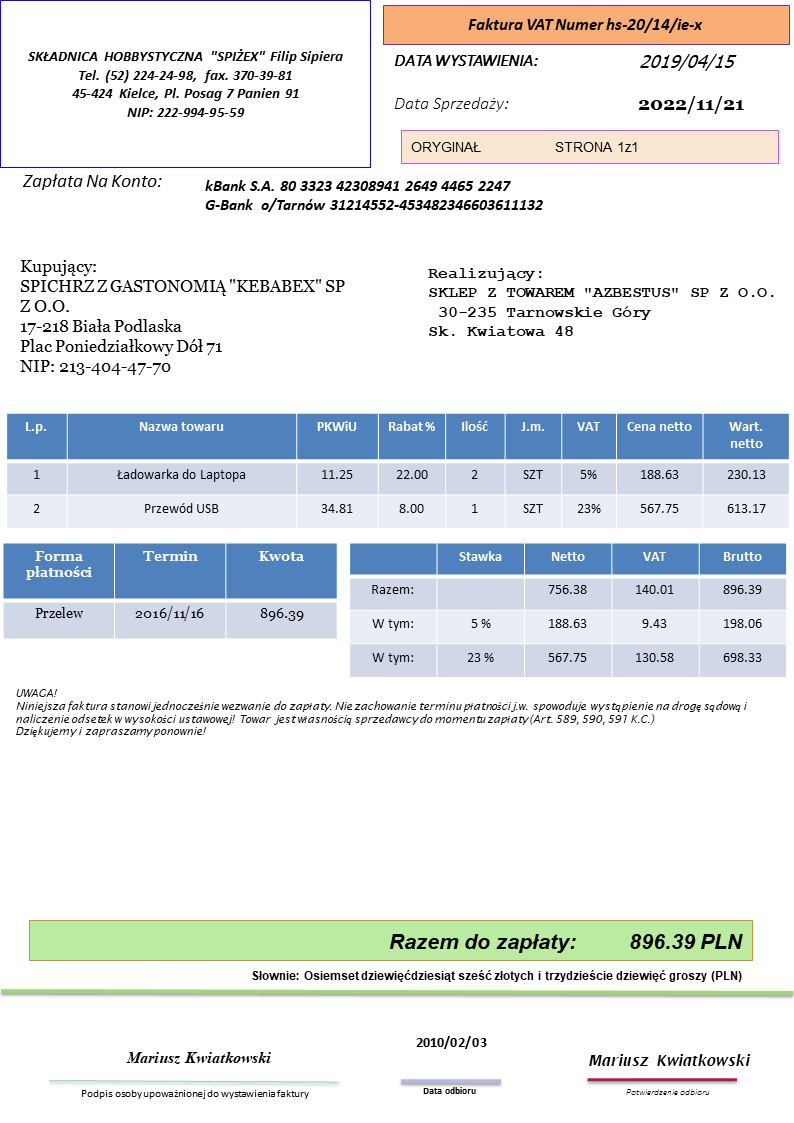Table: (4, 411, 792, 532), (348, 540, 786, 678), (2, 541, 337, 640)
TextBox: (12, 683, 752, 740), (14, 253, 351, 377), (423, 263, 775, 342), (26, 46, 345, 120), (201, 175, 546, 213), (249, 964, 747, 987), (386, 926, 747, 956), (465, 14, 703, 35), (77, 1083, 312, 1104), (408, 136, 642, 157), (586, 1050, 756, 1072), (123, 1045, 274, 1068), (17, 170, 165, 191), (392, 49, 540, 69), (391, 92, 510, 115), (634, 94, 745, 118), (636, 50, 738, 72), (623, 1083, 712, 1102), (412, 1032, 488, 1053), (419, 1083, 479, 1097)
